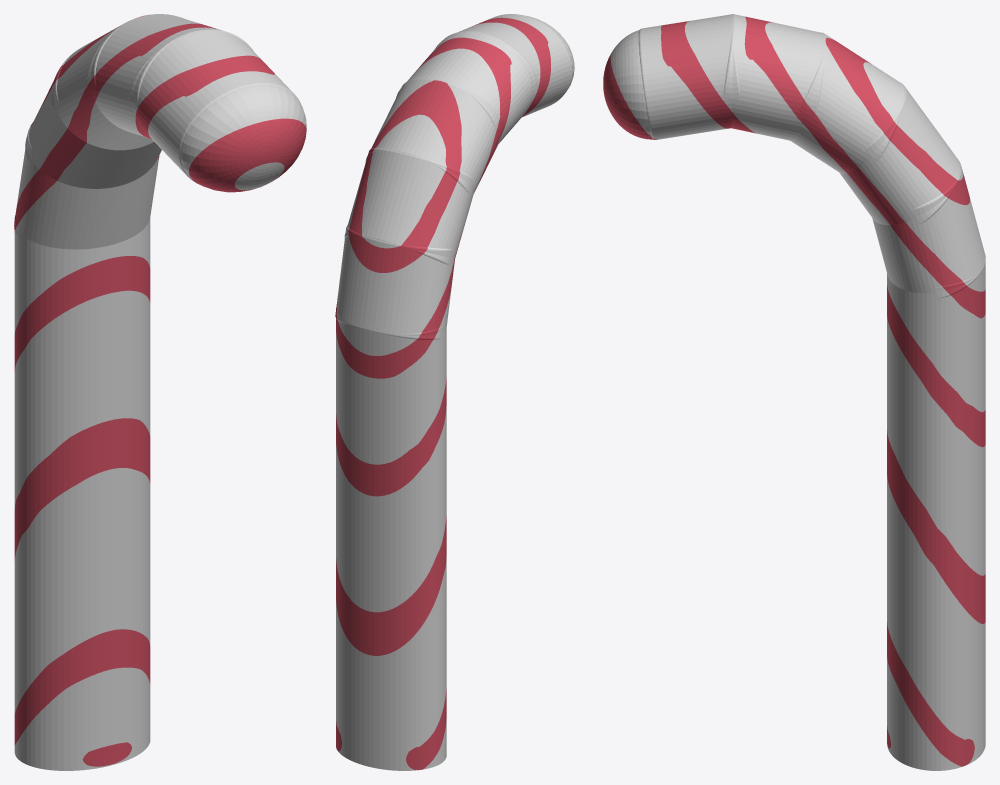
The model's file is canfycane.glb.
3 renders of one model, left to right at view 1: azimuth 30°, elevation 25°; view 2: azimuth 150°, elevation 25°; view 3: azimuth 270°, elevation 25°, orthographic. The views are drawn at different scales.
Parts seen in each view (by area): view 1: Mesh_Mesh_head_geo.001_lambert2SG.001; view 2: Mesh_Mesh_head_geo.001_lambert2SG.001; view 3: Mesh_Mesh_head_geo.001_lambert2SG.001.
Part boxes in pixels (box(x1,y1,x2,y2)): Mesh_Mesh_head_geo.001_lambert2SG.001: box(14, 14, 306, 770); Mesh_Mesh_head_geo.001_lambert2SG.001: box(335, 14, 574, 770); Mesh_Mesh_head_geo.001_lambert2SG.001: box(603, 14, 985, 770).
Size of the model in its own units: 0.00801 by 0.049 by 0.0235.
